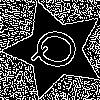Q: (30, 24, 90, 76)
